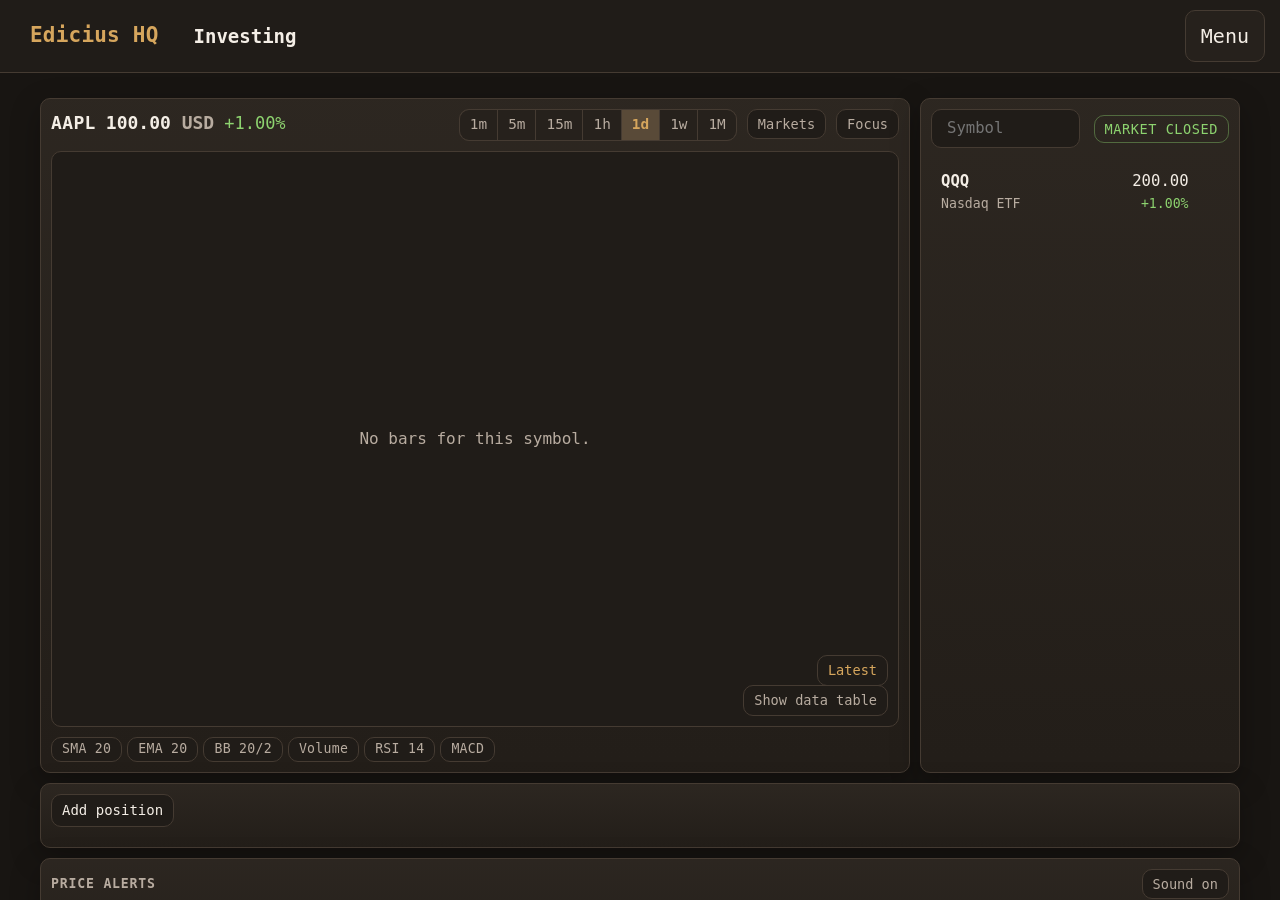
Test: Investing chart-first workspace › keeps watchlist prices visible when switching from a chart outside the watchlist
Click the button "QQQ Nasdaq ETF 200.00 +1.00%" at (981, 203), box left=931, top=163, right=1199, bottom=221
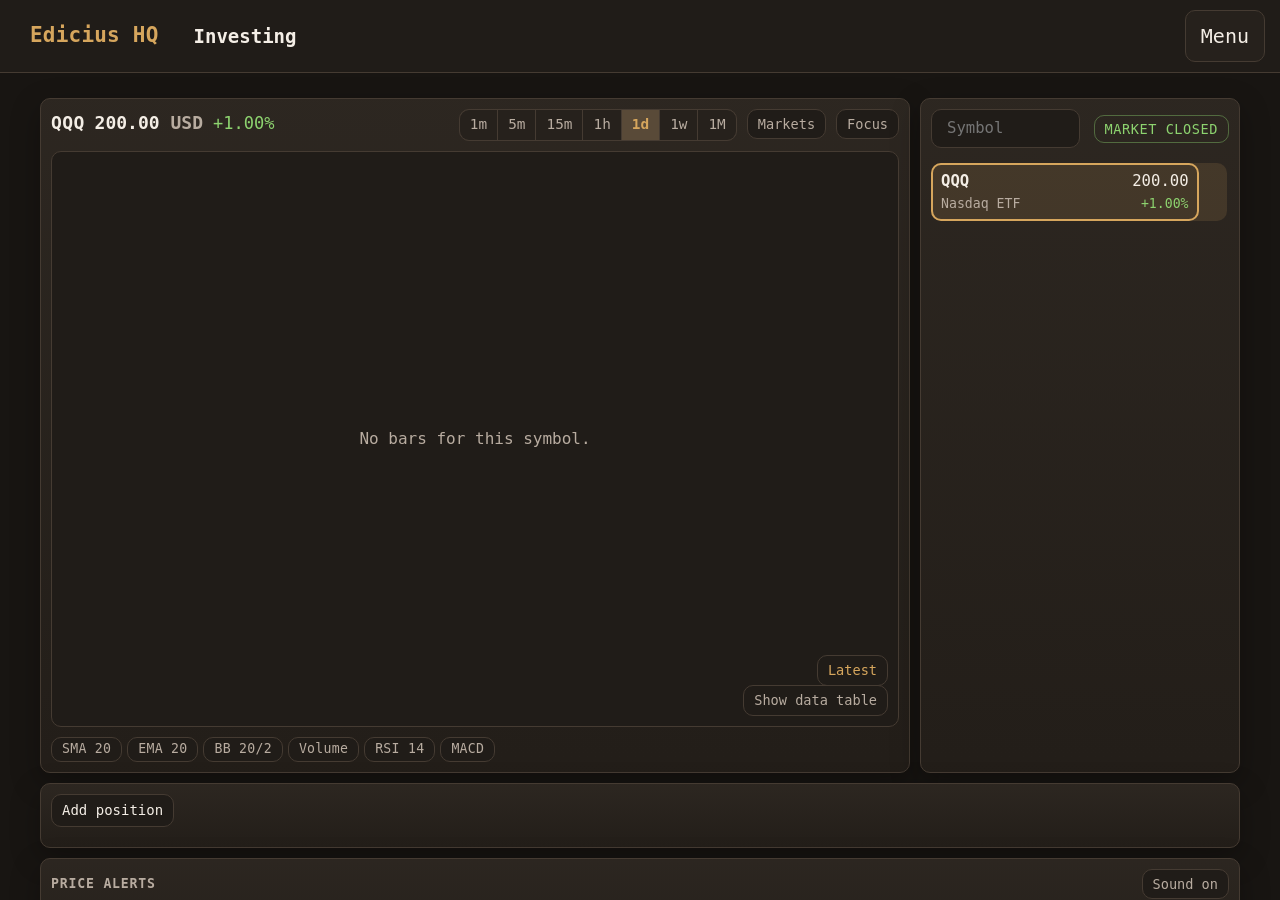
Expected: the element named "QQQ chart" is shown, left=40, top=98, right=910, bottom=773
